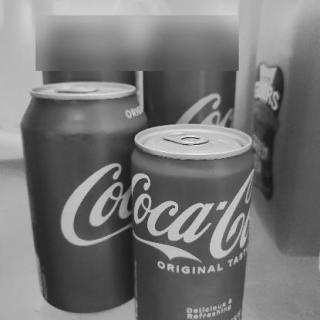alumunium_can: (18, 80, 150, 316), (127, 120, 257, 320)
